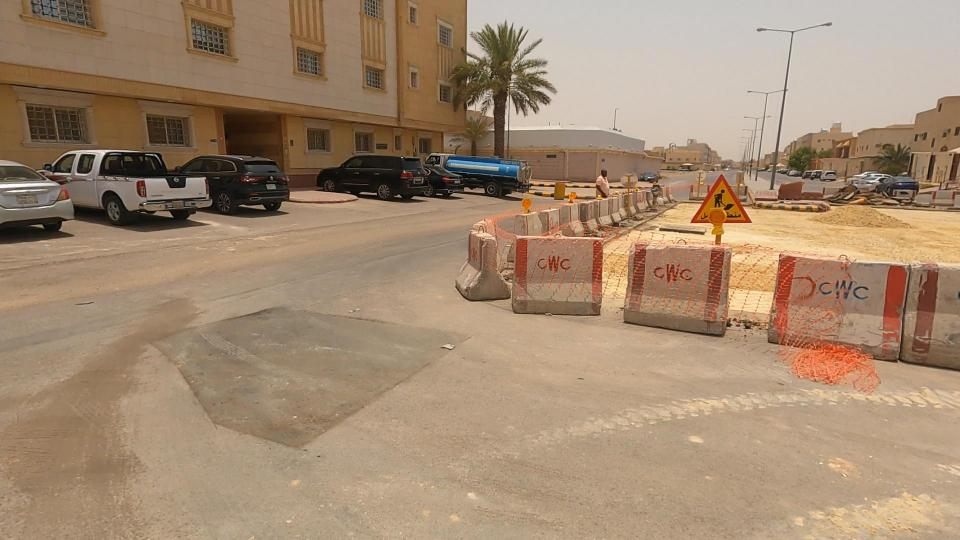CONSTRUCTION_ROAD: (534, 141, 960, 425), (436, 153, 653, 322)
SAND_ON_ROAD: (810, 174, 916, 263)
